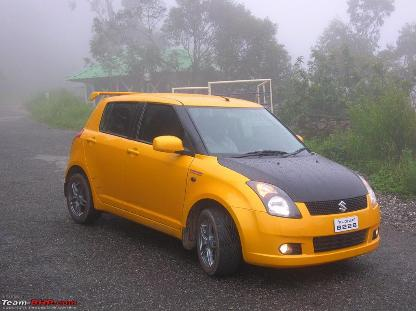car: (64, 84, 382, 276)
